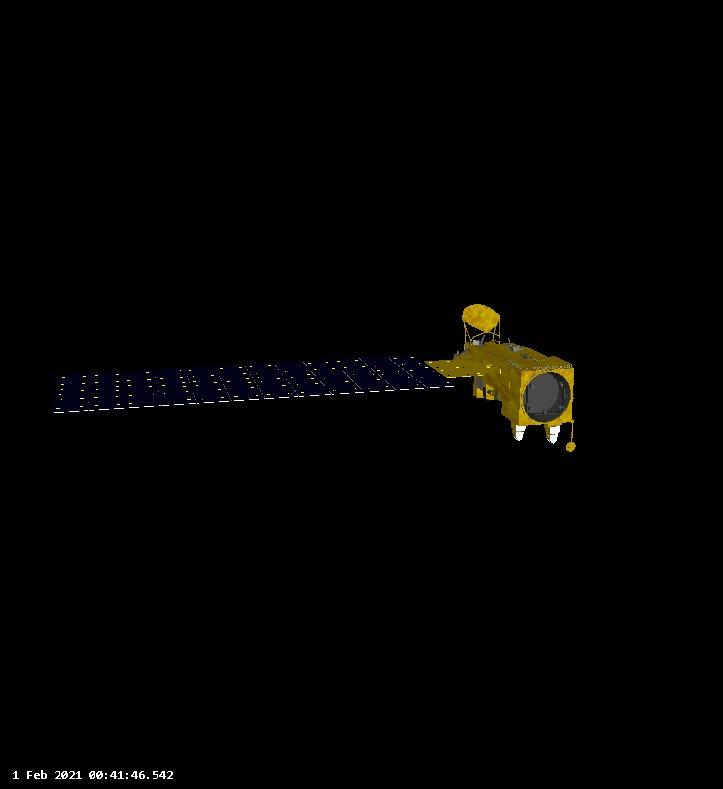antenna: (461, 303, 500, 334), (564, 433, 578, 454)
body: (463, 340, 576, 426)
solar: (53, 350, 457, 417)
